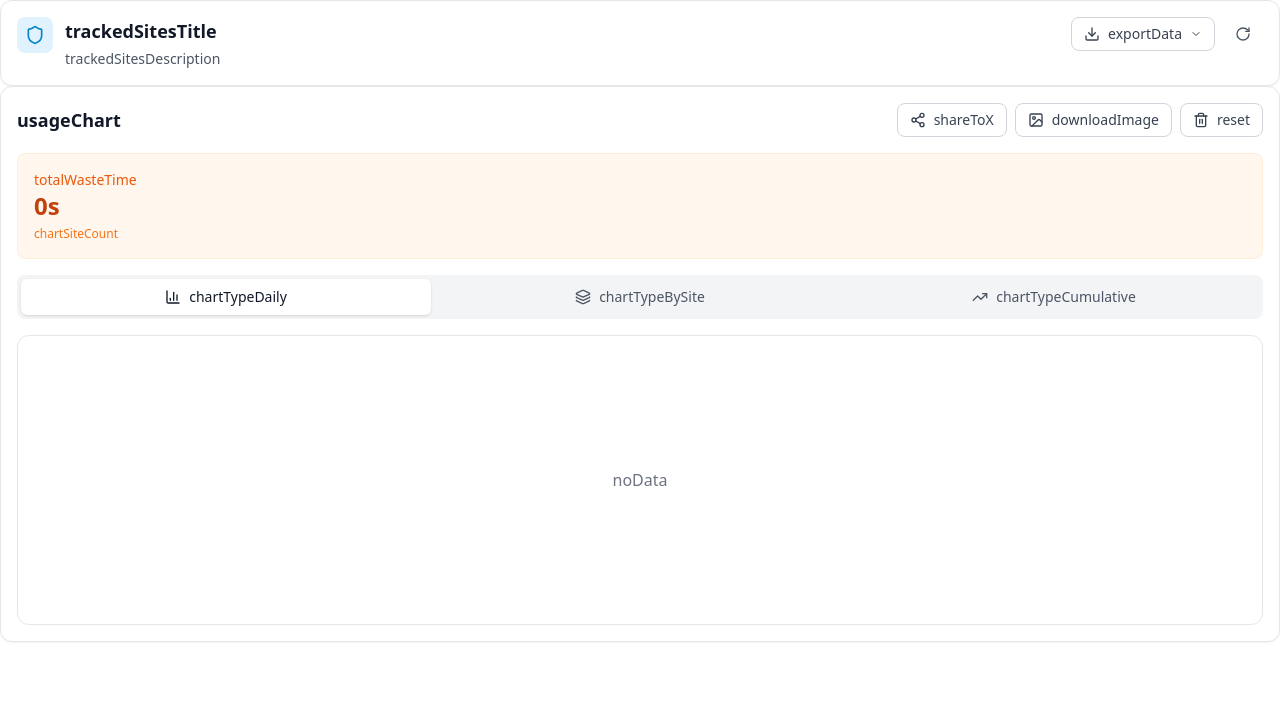
Test case: AnalyticsExportBar › 書き出しメニュー › データを持たない項目は押せない
Click the button with test id "analytics-export-button" at (1143, 34), box 1071,17 -> 1215,51
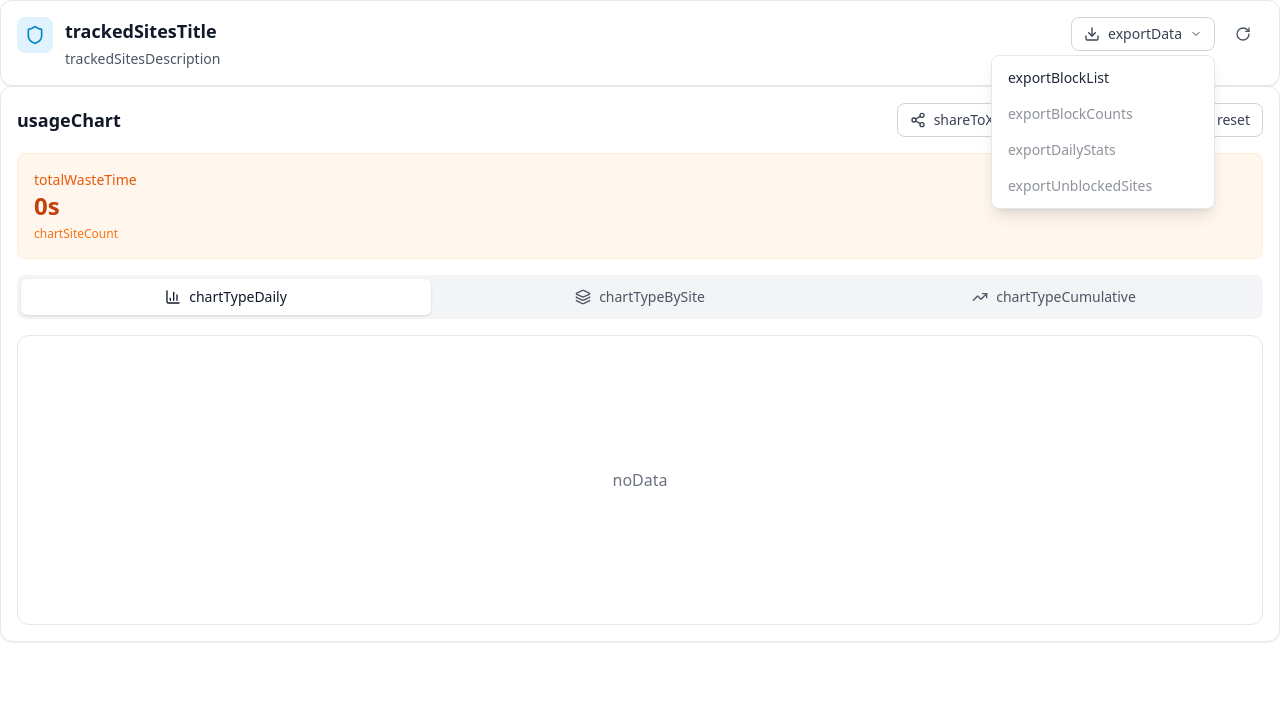
Result: the button with test id "analytics-export-blocklist" is enabled at 992,60 -> 1214,96
Result: the button with test id "analytics-export-block-counts" is disabled at 992,96 -> 1214,132
Result: the button with test id "analytics-export-daily-stats" is disabled at 992,132 -> 1214,168
